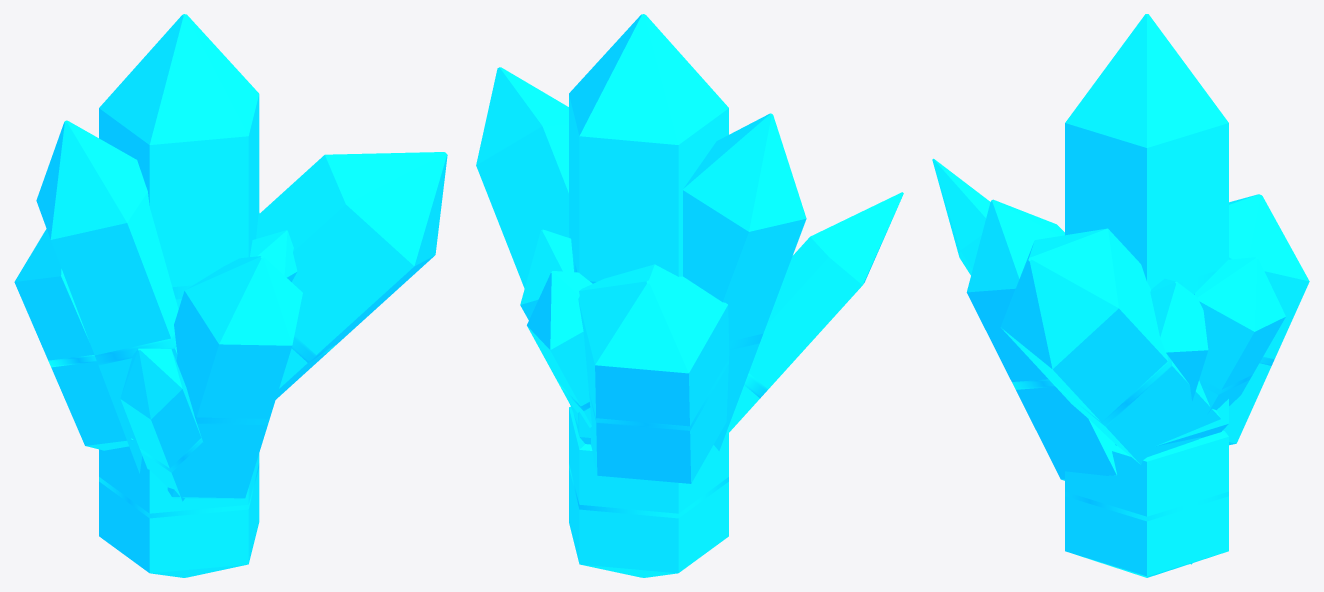
The model's file is Crystal.fbx.
3 views of the same model, side by side, from view 1: azimuth 30°, elevation 25°; view 2: azimuth 150°, elevation 25°; view 3: azimuth 270°, elevation 25° (orthographic).
Visible parts, largest first — view 1: Cylinder001.008; view 2: Cylinder001.008; view 3: Cylinder001.008.
Boxes of the visible parts, left/top/right/bottom form: Cylinder001.008: left=14, top=14, right=447, bottom=577; Cylinder001.008: left=476, top=14, right=903, bottom=577; Cylinder001.008: left=932, top=14, right=1309, bottom=577.
Bounding box in the file's own units: 116 × 174 × 106.
